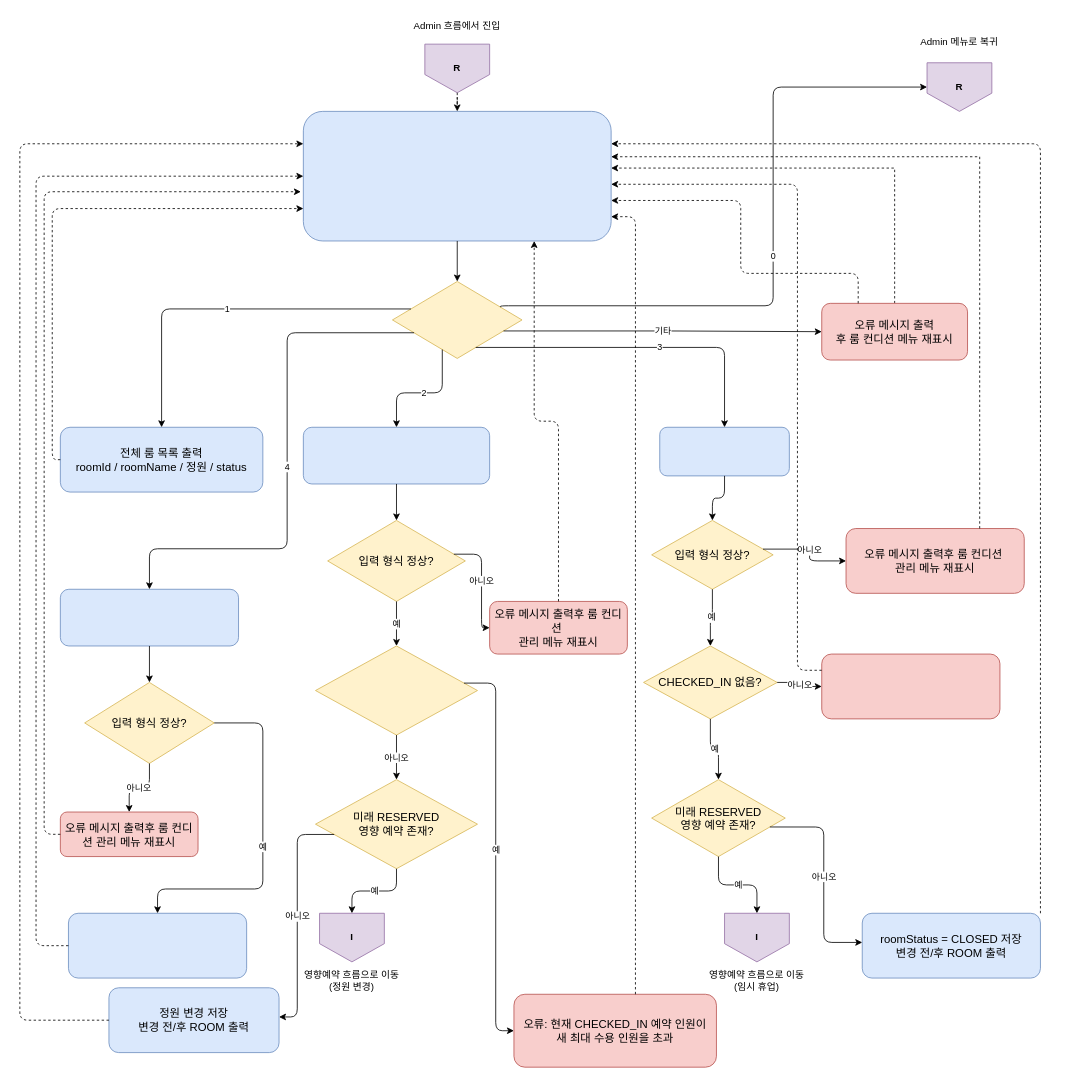
The diagram is 1079 pixels wide and 1081 high, and some of its shapes have lost their labels. The centre of each missing label's shape, as x and y in pixels:
[룸 컨디션 관리] 1. 전체 룸 조회 2. 최대 수용 인원 변경 3. 임시 휴업 4. 운영 재개 0. 상위 메뉴로: point 457,176
roomStatus = OPEN 저장 변경 전/후 ROOM 출력: point 157,945
선택값?: point 457,319
오류: 현재 사용 중 예약이 있어 즉시 휴업 불가: point 910,686
운영 재개 입력 roomId: point 149,617
임시 휴업 입력 roomId: point 724,451
정원 변경 입력 roomId / 새 정원: point 396,455
현재 CHECKED_IN 인원 초과?: point 396,690
